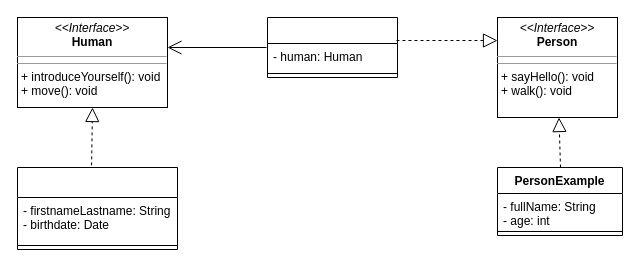
The diagram is 640 pixels wide and 267 high, and some of its shapes have lost their labels. Each missing label, with the box of its shape:
HumanAdapter: (266, 16, 398, 78)
HumanExample: (16, 166, 178, 250)
